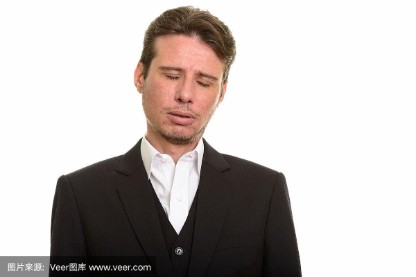闭眼: (189, 71, 214, 89), (160, 67, 182, 82)
